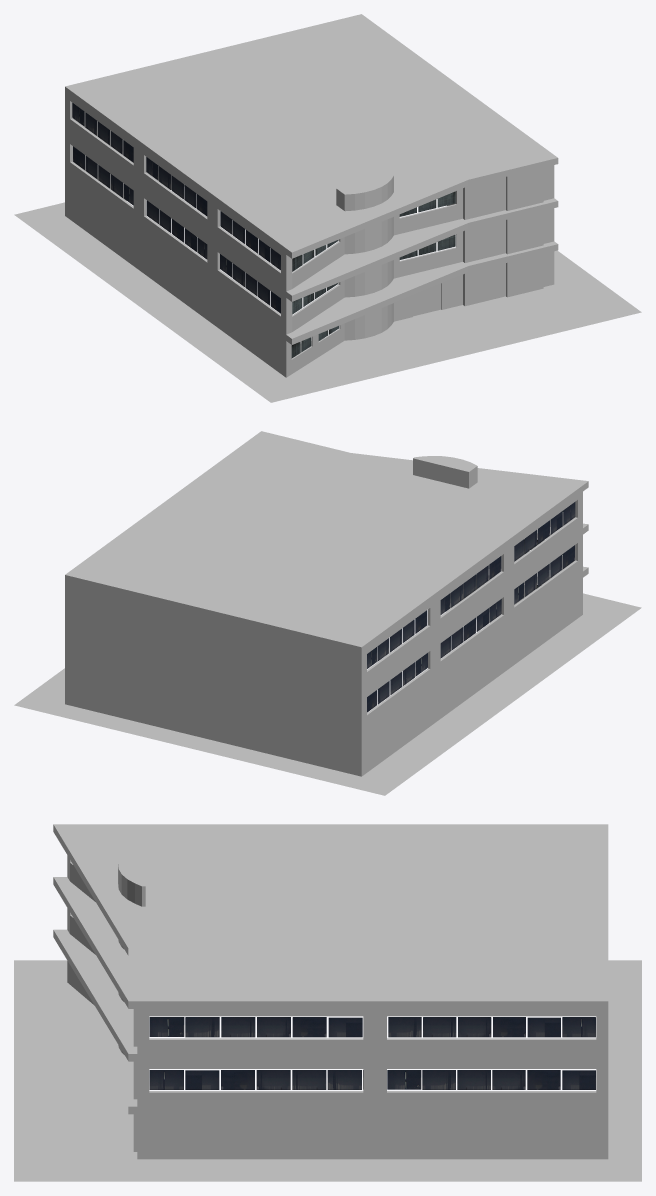
3 views of the same model, one above another, from view 1: azimuth 30°, elevation 25°; view 2: azimuth 150°, elevation 25°; view 3: azimuth 270°, elevation 25° (orthographic). The views are drawn at different scales.
Visible parts, largest first — view 1: BB-052; view 2: BB-052; view 3: BB-052.
Boxes of the visible parts, <box> form: BB-052: <box>14,14,641,402</box>; BB-052: <box>14,431,641,795</box>; BB-052: <box>14,824,641,1181</box>.
Size of what is drawn, in the model's own units: 30 by 11.29 by 36.
